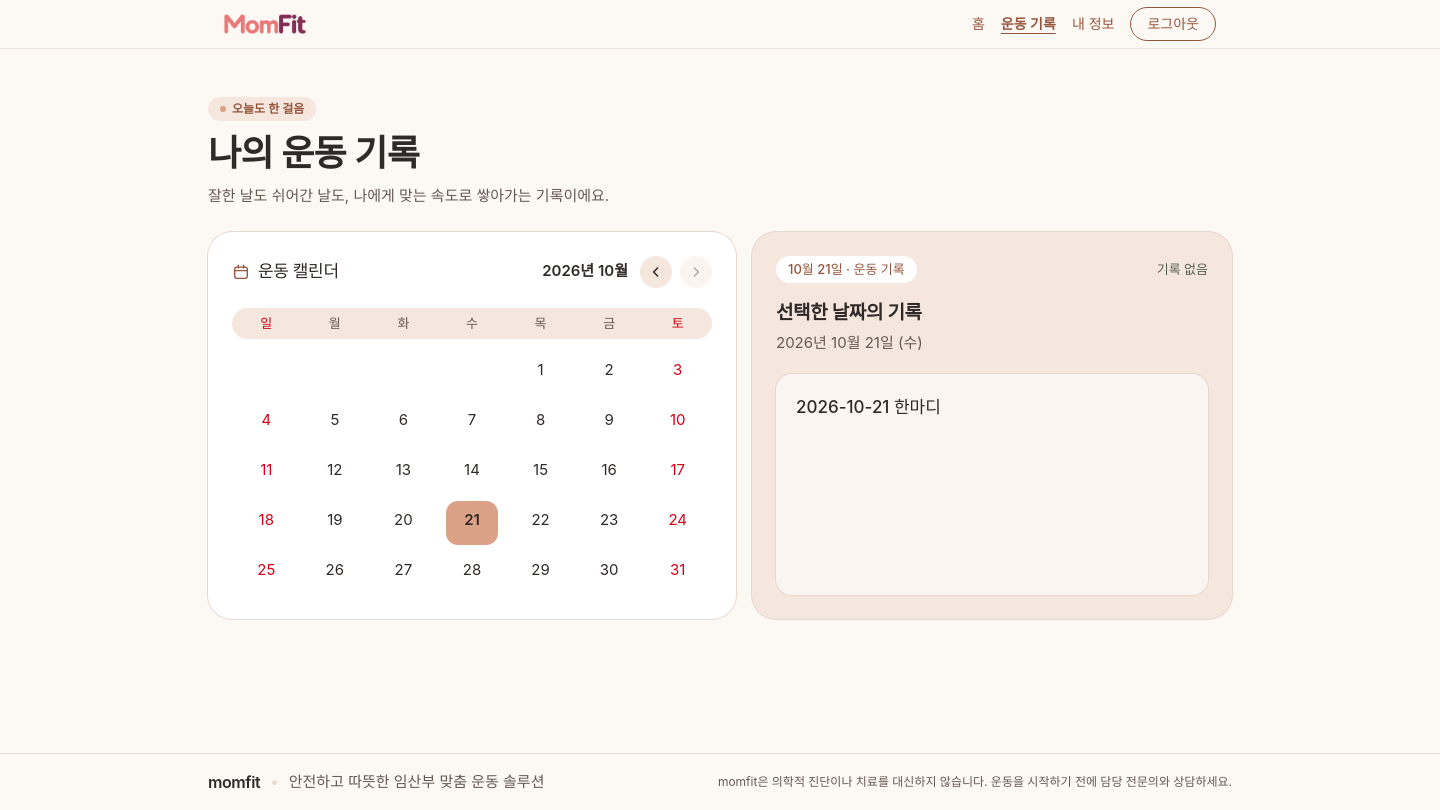
Scenario: RecordsPage › 이전 달로 가면 그 달 범위로 다시 조회하고 선택을 비운다
Click the button named "이전 달" at point(656, 272), box [640,256,672,288]
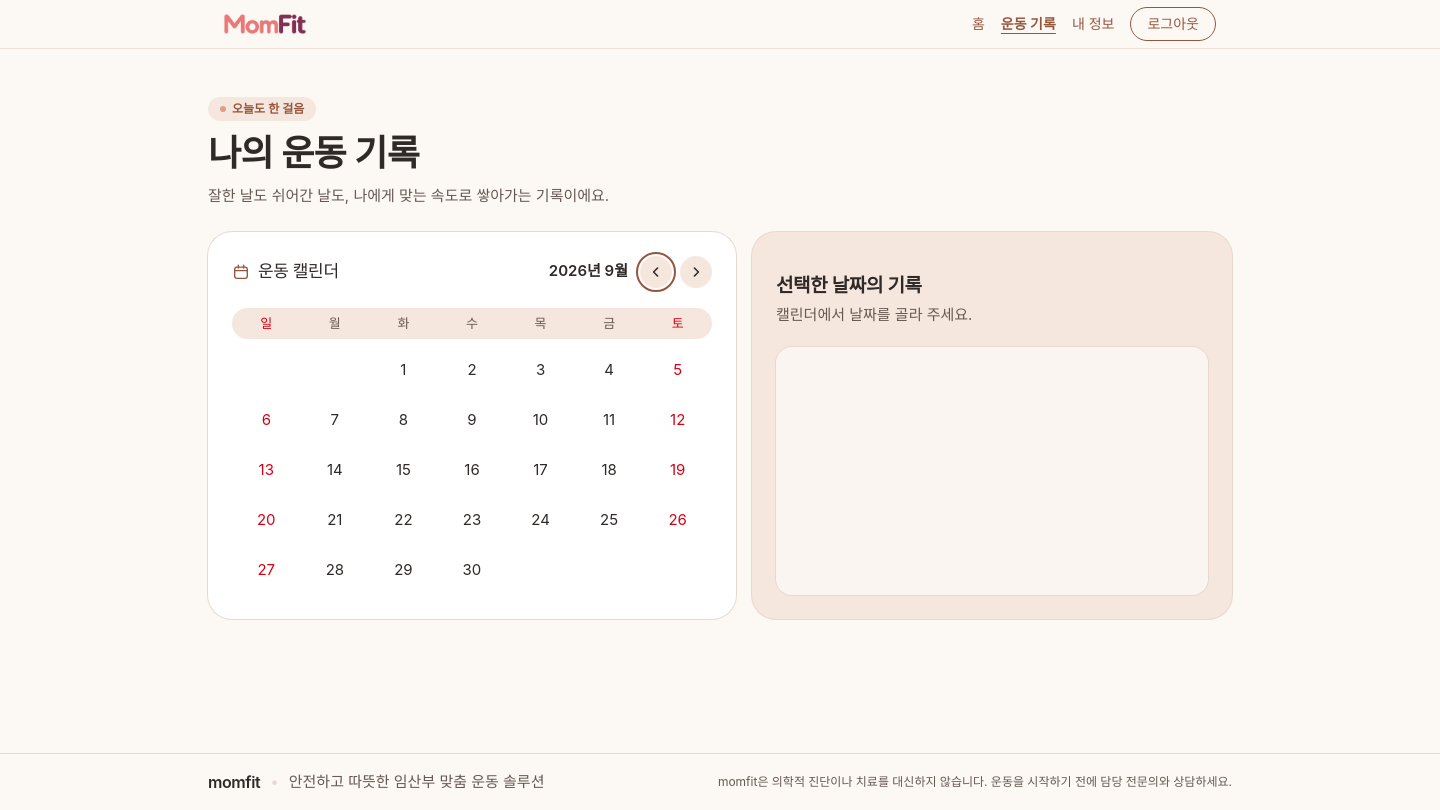
Expected: the element "운동 캘린더" shows "2026년 9월", [208,232,736,619]
Expected: the number of buttons "1" is 30
Expected: the element "선택한 날짜의 기록" shows "캘린더에서 날짜를 골라 주세요.", [776,305,972,324]
